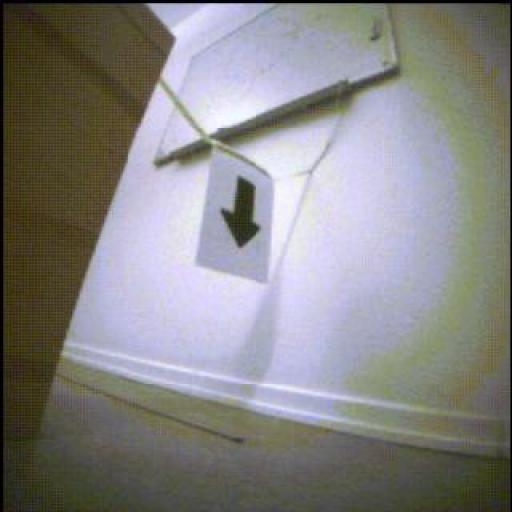arrow: (222, 179, 260, 249)
